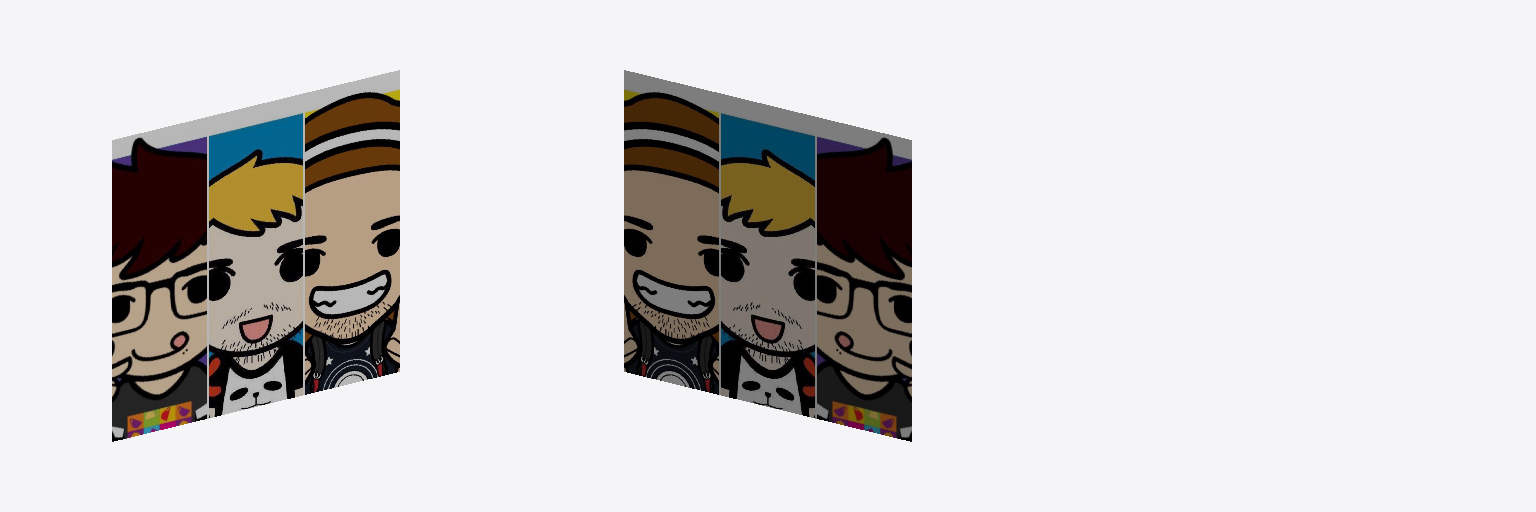
3 views of the same model, side by side, from view 1: azimuth 30°, elevation 25°; view 2: azimuth 150°, elevation 25°; view 3: azimuth 270°, elevation 25° (orthographic).
Visible parts, largest first — view 1: Logo; view 2: Logo; view 3: none.
Part boxes in pixels (bbox=[...]): Logo: bbox=[112, 70, 399, 441]; Logo: bbox=[624, 70, 911, 441].
Size of the model in its own units: 1 by 1 by 0.
Materials: 1 (1 with a texture image).